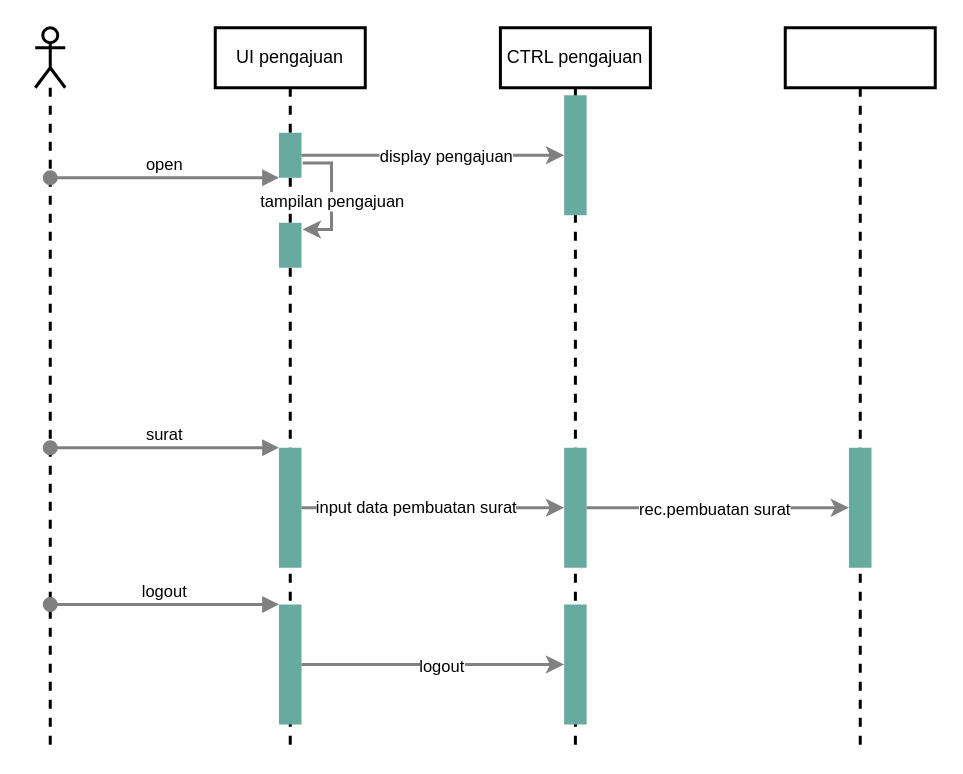
This 963x774 diagram has some shape labels left out. The box of each missing label's shape, as (x1, y1, x2, y2) in pixels:
db pengajuan: (783, 26, 936, 748)
warga: (33, 26, 66, 748)
